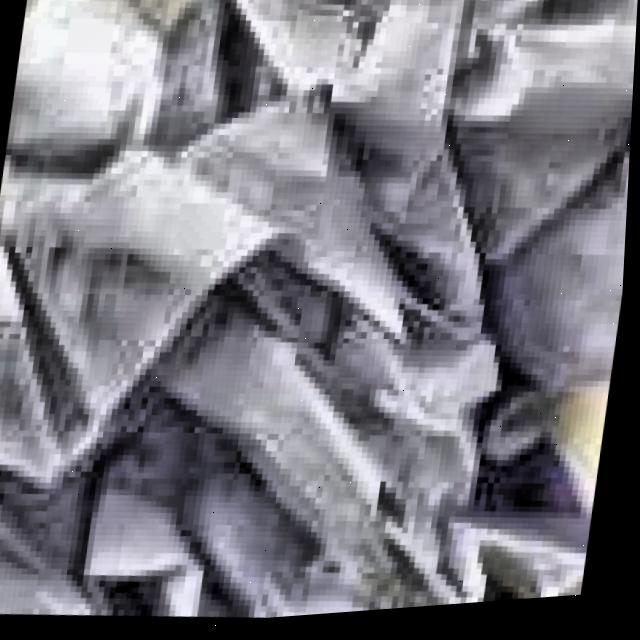paper: (0, 0, 638, 622)
